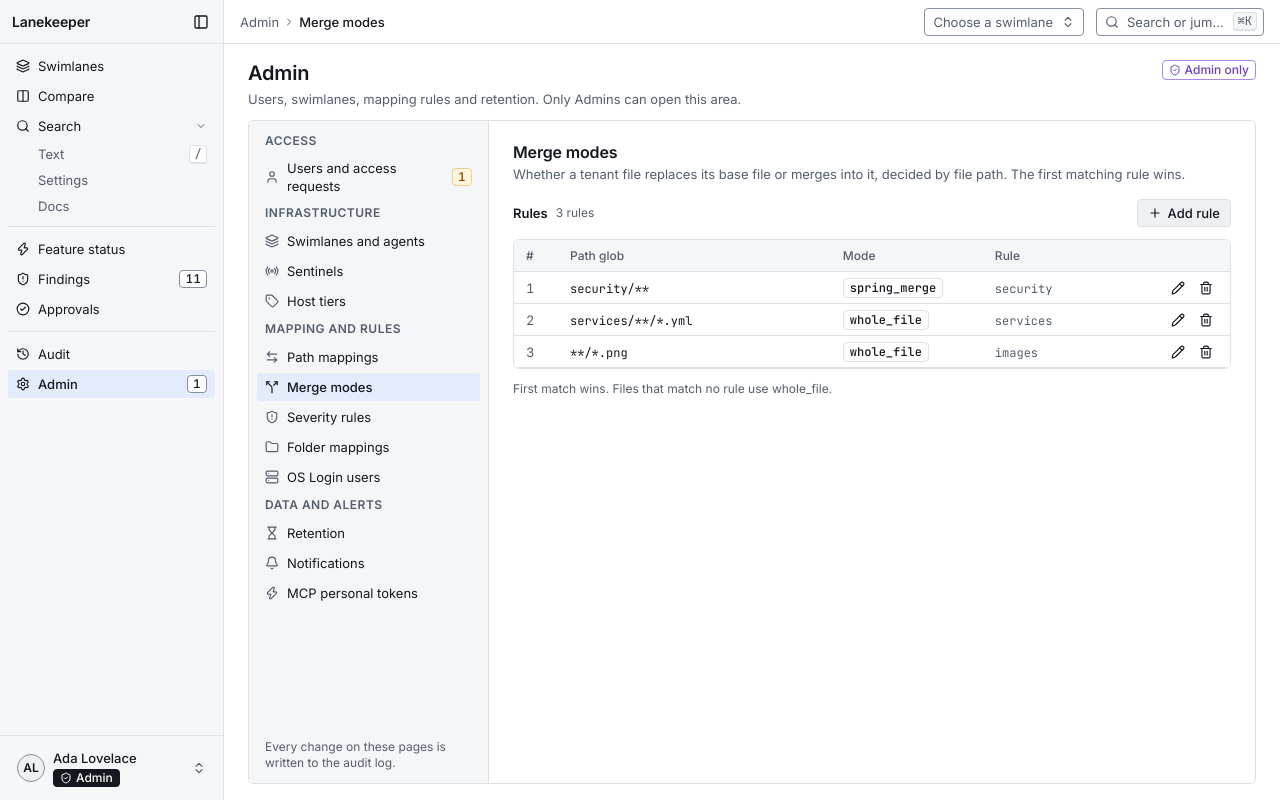
deleting a rule › says which files fall to the next rule, and removes the row once the hub has
The image size is (1280, 800).
Expected: the heading "Admin" is shown, [248,61,309,85]
Click the button named "Delete rule images" at (1206,352), box [1194,340,1218,364]
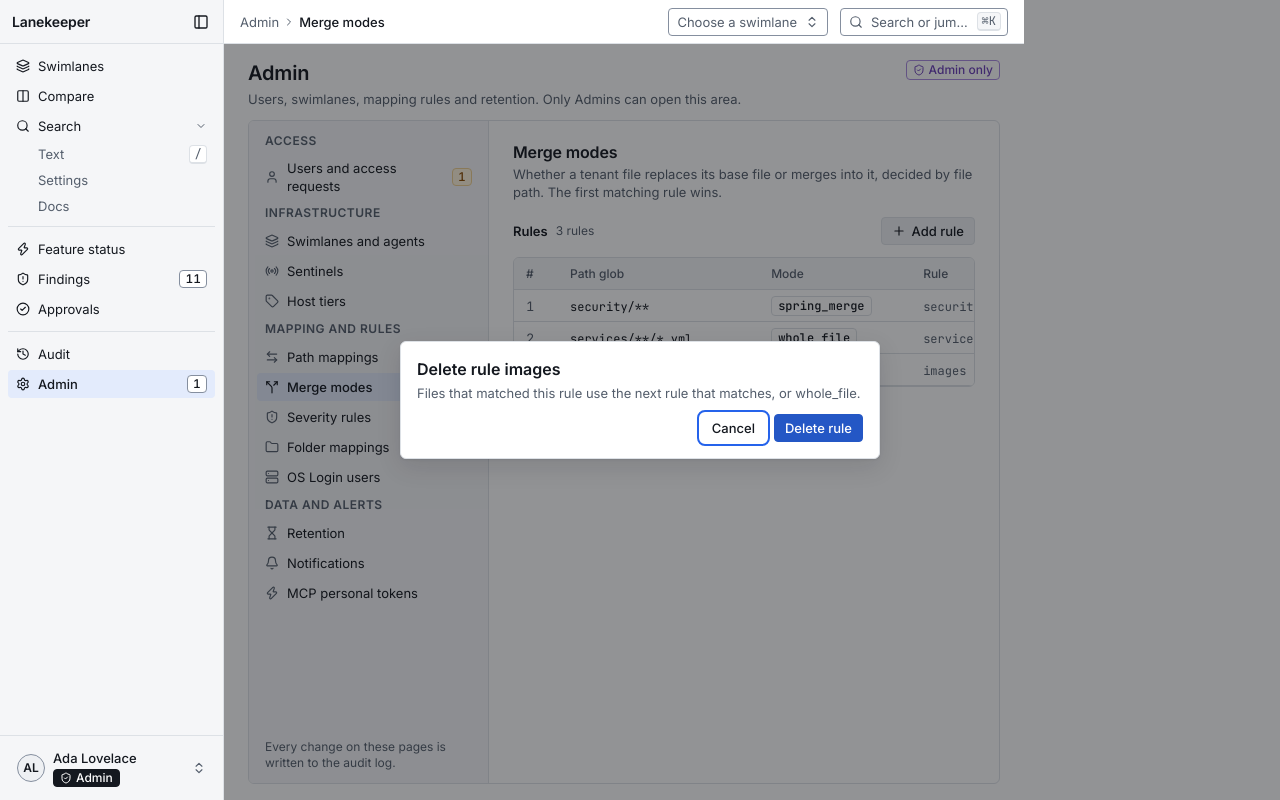
Result: the text "use the next rule that matches, or whole_file" is shown at [417,385,860,401]
Click the button "Delete rule" at (818,428), box [774,414,863,442]
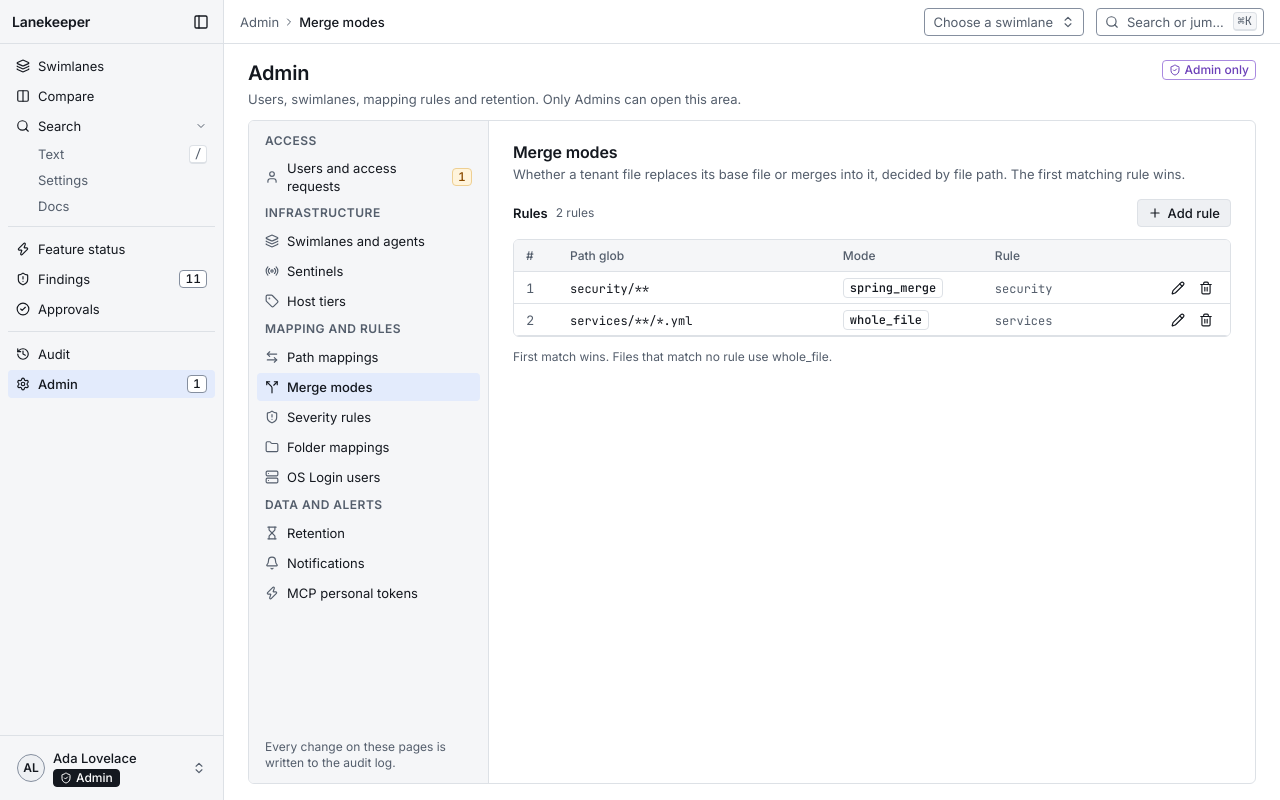
Result: the dialog is gone
Result: the text "2 rules" is shown at [556,205,594,221]
